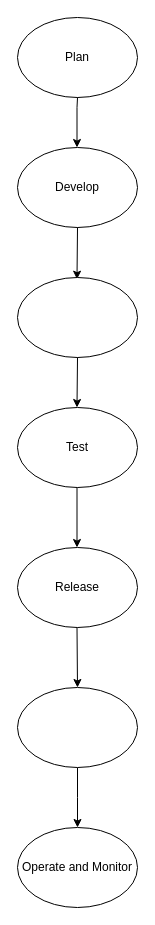
Image size: 155x925. Some labels were removed from this diagram. The shapes that lost their labels are listed below. From the top down, each one's centre as x and y in pixels, then its label:
the point at 77,317: Build
the point at 77,727: Deploy
